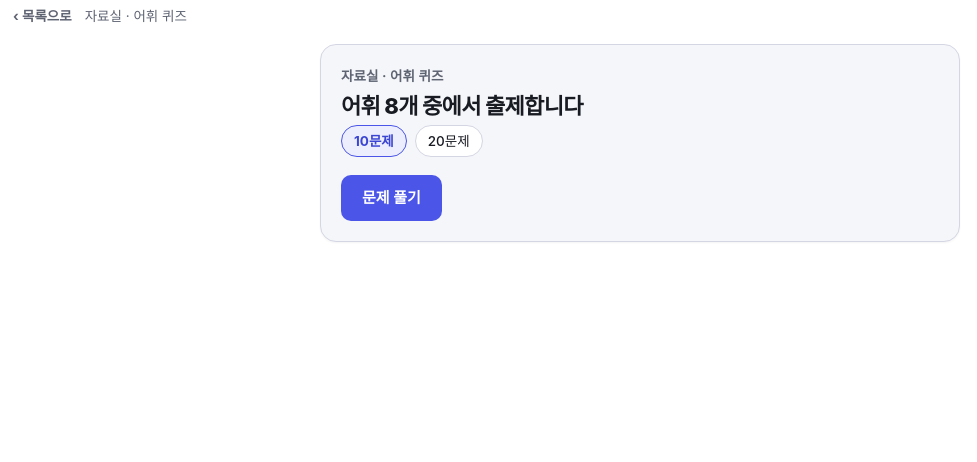
Test case: 자료실 어휘 퀴즈 (QA 치명 2) › 표제어 DTO로 시작해도 지문·보기가 비지 않는다 (크래시 없음)
Step 1. Click the button "문제 풀기" → (391, 198), box [341,176,442,222]
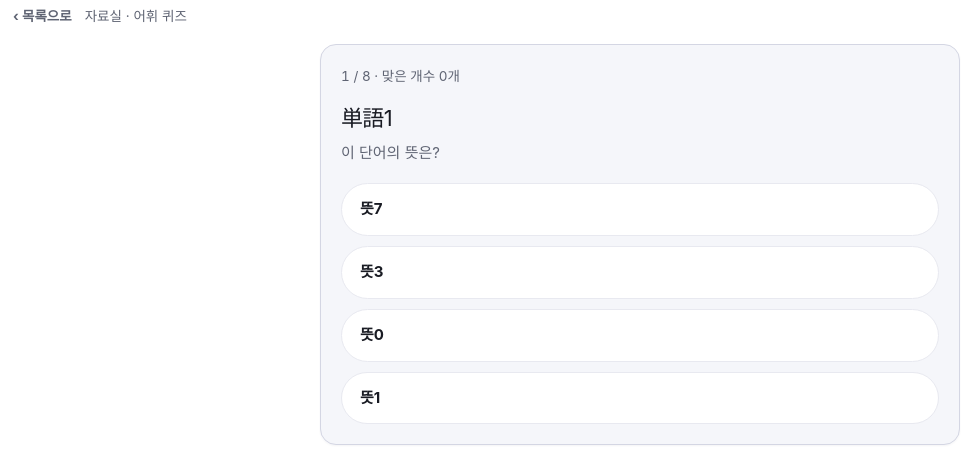
Expected: the button "보기" does not show ""
Expected: the text "1 / 8 · 맞은 개수 0개" is shown, [341,68,460,84]
